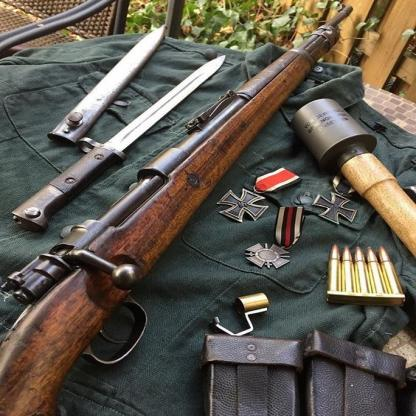Grenade: (291, 96, 416, 260)
Gun: (0, 2, 355, 416)
Knife: (8, 24, 228, 232)
